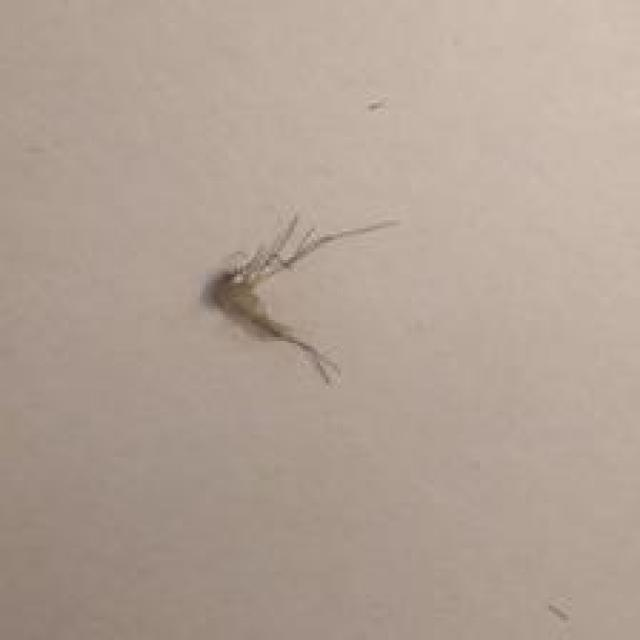Culex: (209, 210, 400, 387)
